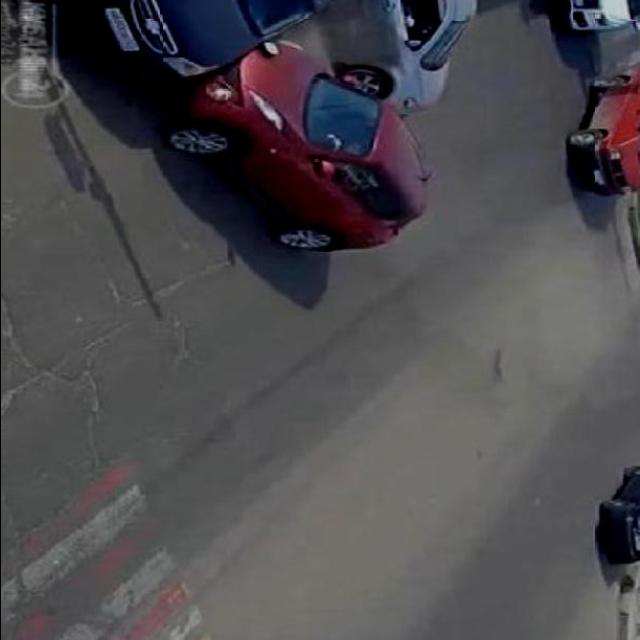accident: (159, 0, 434, 261)
